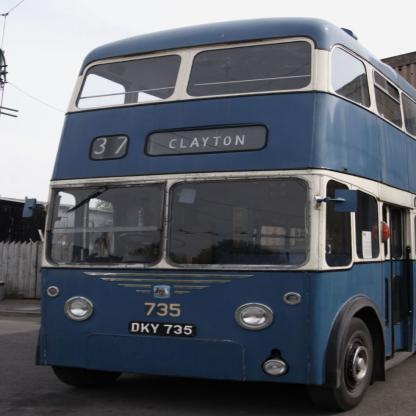Bus: (22, 16, 415, 412)
